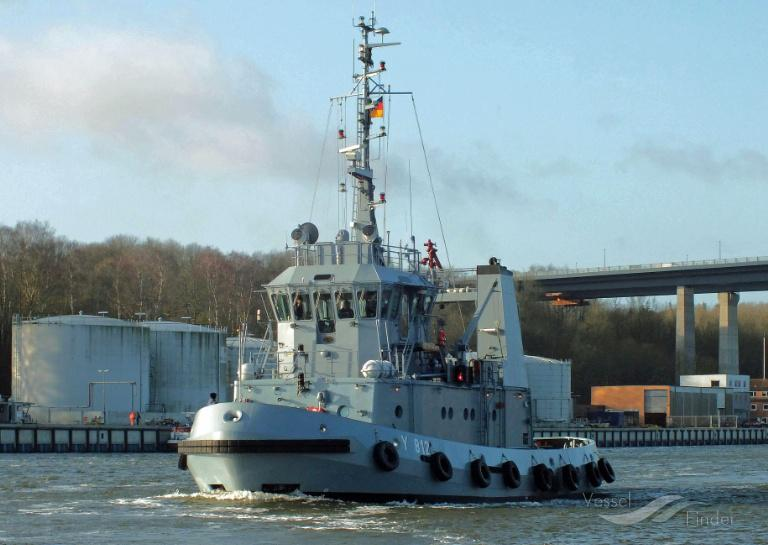OCR: (394, 428, 436, 458)
